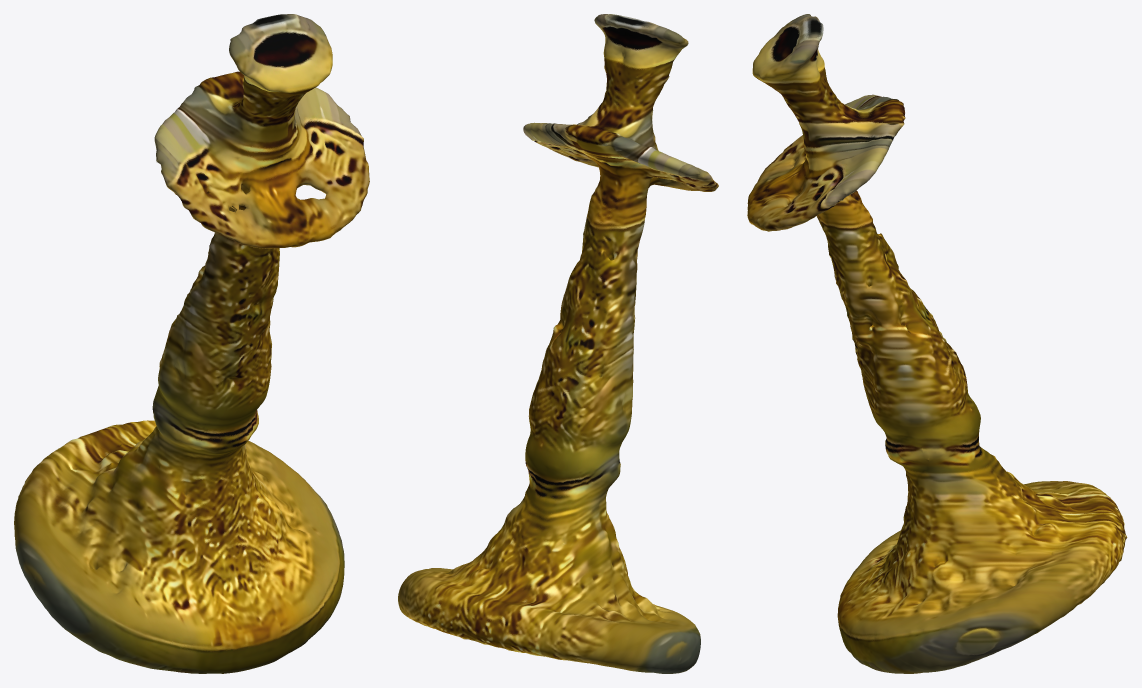
File: kfl-2155.glb
3 renders of one model, left to right at view 1: azimuth 30°, elevation 25°; view 2: azimuth 150°, elevation 25°; view 3: azimuth 270°, elevation 25°, orthographic. The views are drawn at different scales.
Parts seen in each view (by area): view 1: kfl-2155; view 2: kfl-2155; view 3: kfl-2155.
Part boxes in pixels (left/top/right/bottom): kfl-2155: left=14, top=14, right=369, bottom=673; kfl-2155: left=398, top=14, right=718, bottom=673; kfl-2155: left=747, top=14, right=1127, bottom=673.
Bounding box in the file's own units: 0.4514 × 0.9929 × 0.5528.
Materials: 1 (1 with a texture image).
